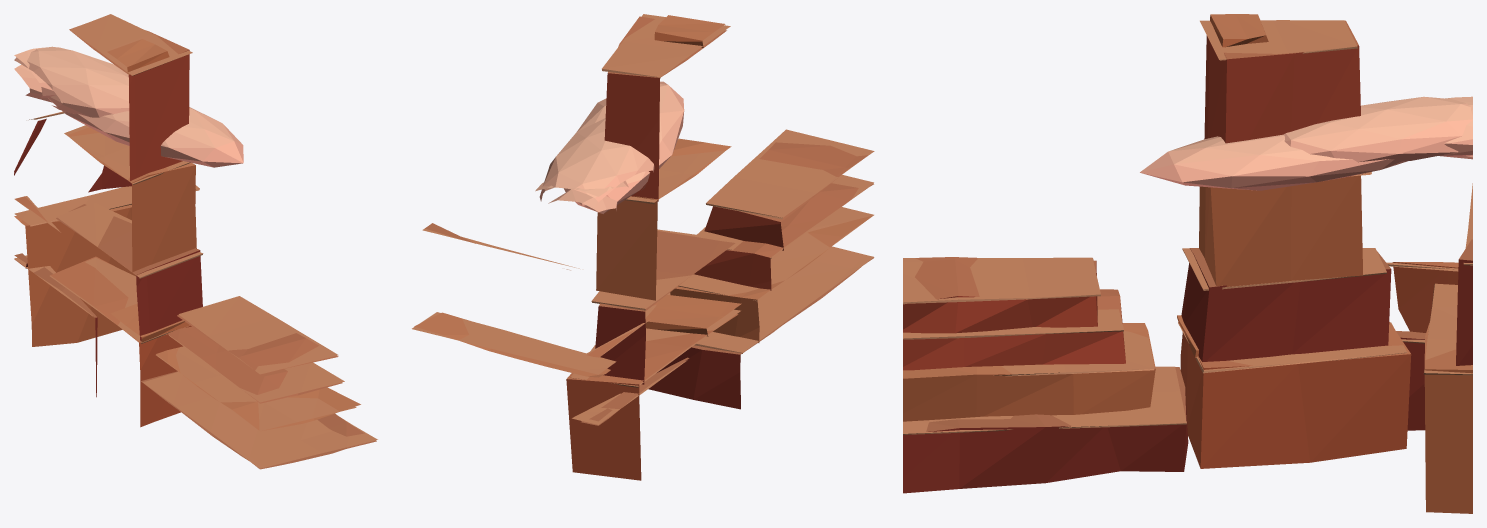
3 views of the same model, side by side, from view 1: azimuth 30°, elevation 25°; view 2: azimuth 150°, elevation 25°; view 3: azimuth 270°, elevation 25° (orthographic). The views are drawn at different scales.
Parts seen in each view (by area): view 1: scene.7.3 (×2); view 2: scene.7.3 (×2); view 3: scene.7.3 (×2).
Boxes of the visible parts, x1,y1,x2,y2 form: scene.7.3 (×2): [14, 14, 377, 469]; scene.7.3 (×2): [412, 14, 874, 480]; scene.7.3 (×2): [903, 14, 1472, 513].
Bounding box in the file's own units: 24.47 × 50.08 × 62.5.
